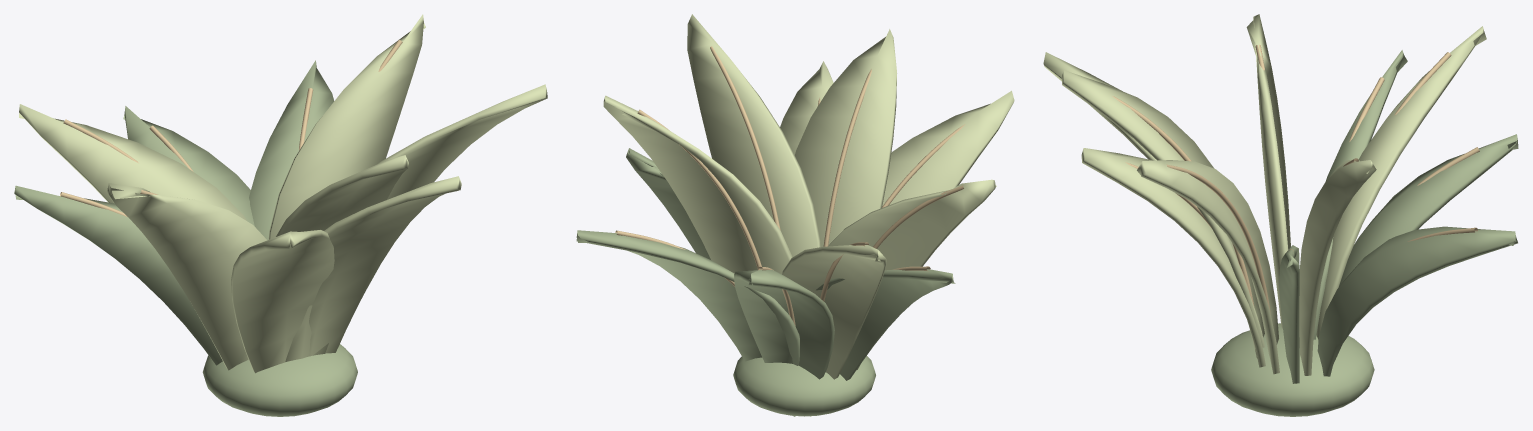
File: bio_mist_leaf_16_near.glb
3 renders of one model, left to right at view 1: azimuth 30°, elevation 25°; view 2: azimuth 150°, elevation 25°; view 3: azimuth 270°, elevation 25°, orthographic. The views are drawn at different scales.
Parts seen in each view (by area): view 1: Cupped condensate leaf.004, Cupped condensate leaf.008, Cupped condensate leaf.007, Cupped condensate leaf.010, Cupped condensate leaf.001, Root rosette, Cupped condensate leaf.009, Cupped condensate leaf.002, Cupped condensate leaf.003, Cupped condensate leaf.005, Cupped condensate leaf.006; view 2: Cupped condensate leaf.002, Cupped condensate leaf.005, Cupped condensate leaf.008, Cupped condensate leaf.003, Cupped condensate leaf.007, Cupped condensate leaf.004, Cupped condensate leaf.006, Cupped condensate leaf.001, Root rosette, Cupped condensate leaf.009, Cupped condensate leaf, Cupped condensate leaf.010 (+5 smaller); view 3: Root rosette, Cupped condensate leaf.003, Cupped condensate leaf.001, Cupped condensate leaf.005, Cupped condensate leaf.006, Cupped condensate leaf.002, Cupped condensate leaf.008, Cupped condensate leaf.010, Cupped condensate leaf.004, Cupped condensate leaf.009, Cupped condensate leaf, Cupped condensate leaf.007 (+2 smaller).
Boxes of the visible parts, x1=… form: Cupped condensate leaf.004: x1=107, y1=183, x2=267, y2=370; Cupped condensate leaf.008: x1=268, y1=14, x2=425, y2=239; Cupped condensate leaf.007: x1=231, y1=230, x2=334, y2=373; Cupped condensate leaf.010: x1=309, y1=176, x2=461, y2=355; Cupped condensate leaf.001: x1=19, y1=104, x2=247, y2=221; Root rosette: x1=202, y1=344, x2=357, y2=416; Cupped condensate leaf.009: x1=14, y1=185, x2=222, y2=365; Cupped condensate leaf.002: x1=276, y1=155, x2=408, y2=361; Cupped condensate leaf.003: x1=249, y1=60, x2=333, y2=240; Cupped condensate leaf.005: x1=339, y1=84, x2=547, y2=344; Cupped condensate leaf.006: x1=123, y1=106, x2=254, y2=225; Cupped condensate leaf.002: x1=795, y1=29, x2=896, y2=246; Cupped condensate leaf.005: x1=687, y1=14, x2=820, y2=256; Cupped condensate leaf.008: x1=603, y1=95, x2=792, y2=274; Cupped condensate leaf.003: x1=576, y1=230, x2=799, y2=365; Cupped condensate leaf.007: x1=882, y1=90, x2=1014, y2=205; Cupped condensate leaf.004: x1=828, y1=179, x2=996, y2=369; Cupped condensate leaf.006: x1=734, y1=269, x2=834, y2=416; Cupped condensate leaf.001: x1=782, y1=245, x2=886, y2=416; Root rosette: x1=733, y1=356, x2=875, y2=416; Cupped condensate leaf.009: x1=816, y1=269, x2=955, y2=380; Cupped condensate leaf: x1=626, y1=148, x2=710, y2=259; Cupped condensate leaf.010: x1=780, y1=61, x2=833, y2=154; Root rosette: x1=1211, y1=323, x2=1374, y2=416; Cupped condensate leaf.003: x1=1317, y1=226, x2=1517, y2=376; Cupped condensate leaf.001: x1=1316, y1=26, x2=1486, y2=339; Cupped condensate leaf.005: x1=1137, y1=160, x2=1279, y2=374; Cupped condensate leaf.006: x1=1339, y1=134, x2=1518, y2=286; Cupped condensate leaf.002: x1=1062, y1=70, x2=1260, y2=358; Cupped condensate leaf.008: x1=1299, y1=160, x2=1376, y2=375; Cupped condensate leaf.010: x1=1081, y1=148, x2=1265, y2=367; Cupped condensate leaf.004: x1=1246, y1=14, x2=1290, y2=328; Cupped condensate leaf.009: x1=1313, y1=50, x2=1407, y2=339; Cupped condensate leaf: x1=1279, y1=245, x2=1299, y2=383; Cupped condensate leaf.007: x1=1043, y1=52, x2=1264, y2=347.
Bounding box in the file's own units: 1.83 × 1.38 × 1.74.
